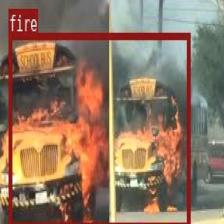fire: (8, 31, 189, 224)
